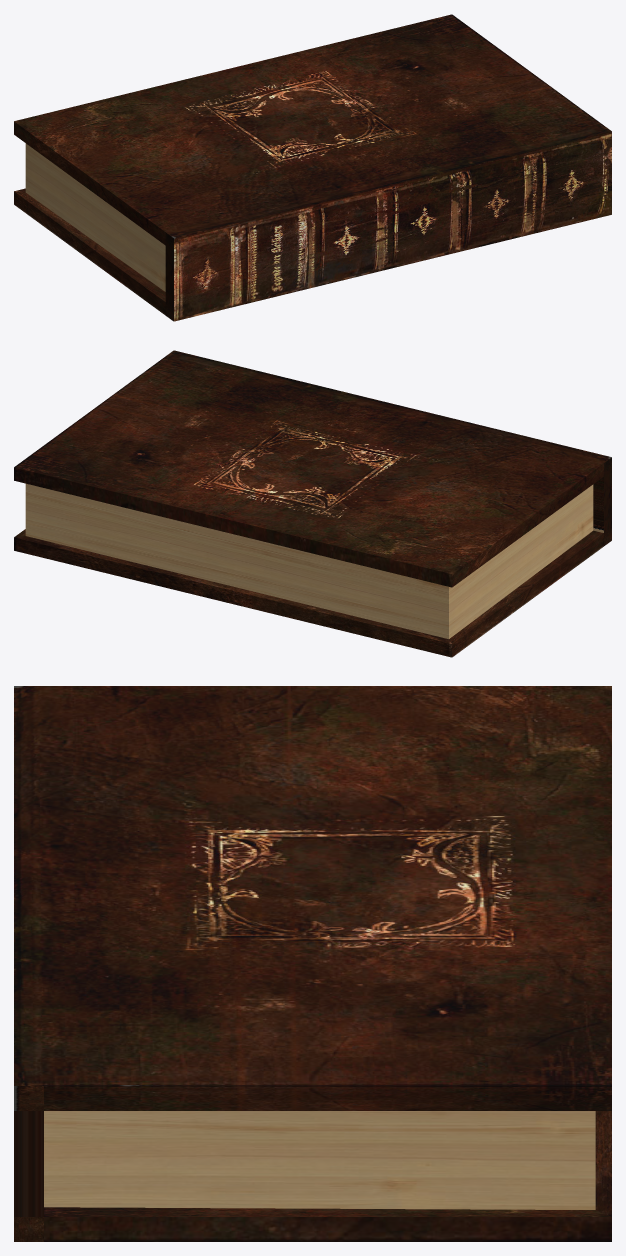
File: Book.FBX
3 renders of one model, top to bottom at view 1: azimuth 30°, elevation 25°; view 2: azimuth 150°, elevation 25°; view 3: azimuth 270°, elevation 25°, orthographic. The views are drawn at different scales.
Visible parts, largest first — view 1: Book; view 2: Book; view 3: Book.
Part boxes in pixels (<box>): Book: <box>14,14,611,321</box>; Book: <box>14,350,611,657</box>; Book: <box>14,686,611,1241</box>.
Size of the model in its own units: 0.4218 by 0.0767 by 0.2665.
1 material, 1 textured.
